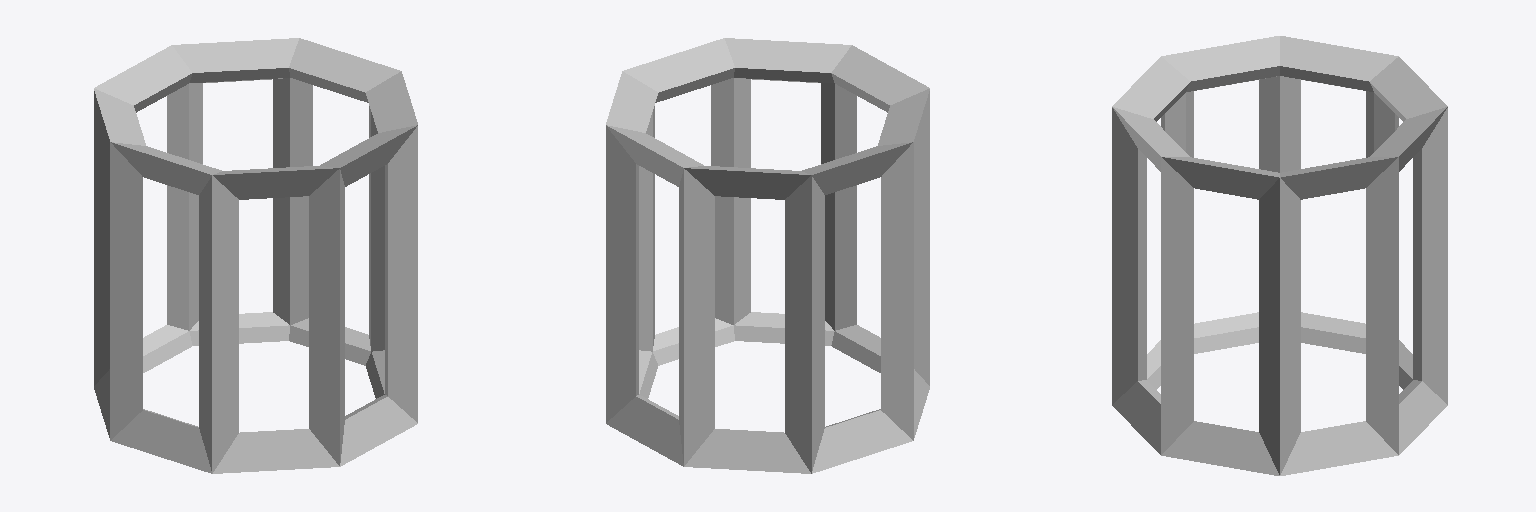
File: bumper_wireframe.obj
3 views of the same model, side by side, from view 1: azimuth 30°, elevation 25°; view 2: azimuth 150°, elevation 25°; view 3: azimuth 270°, elevation 25° (orthographic).
Visible parts, largest first — view 1: Cylinder; view 2: Cylinder; view 3: Cylinder.
Part boxes in pixels (x1,y1,x2,y2): Cylinder: (94,38,417,473); Cylinder: (606,38,929,473); Cylinder: (1112,36,1447,475).
Bounding box in the file's own units: 2.23 × 2.19 × 2.23.